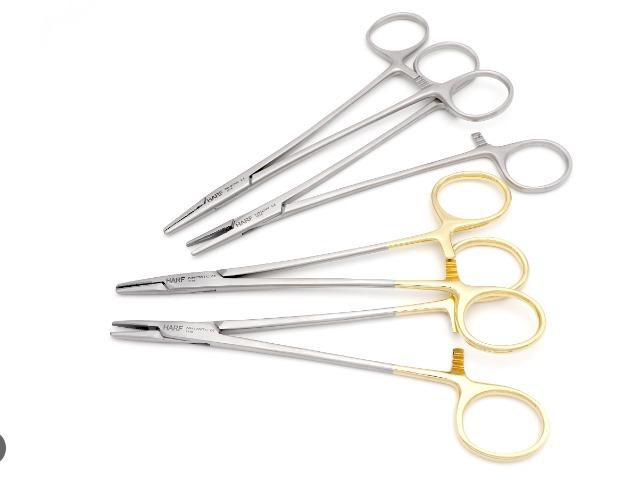Needle Holder: (182, 64, 586, 258), (106, 289, 548, 464), (149, 6, 479, 235), (112, 167, 529, 347)
